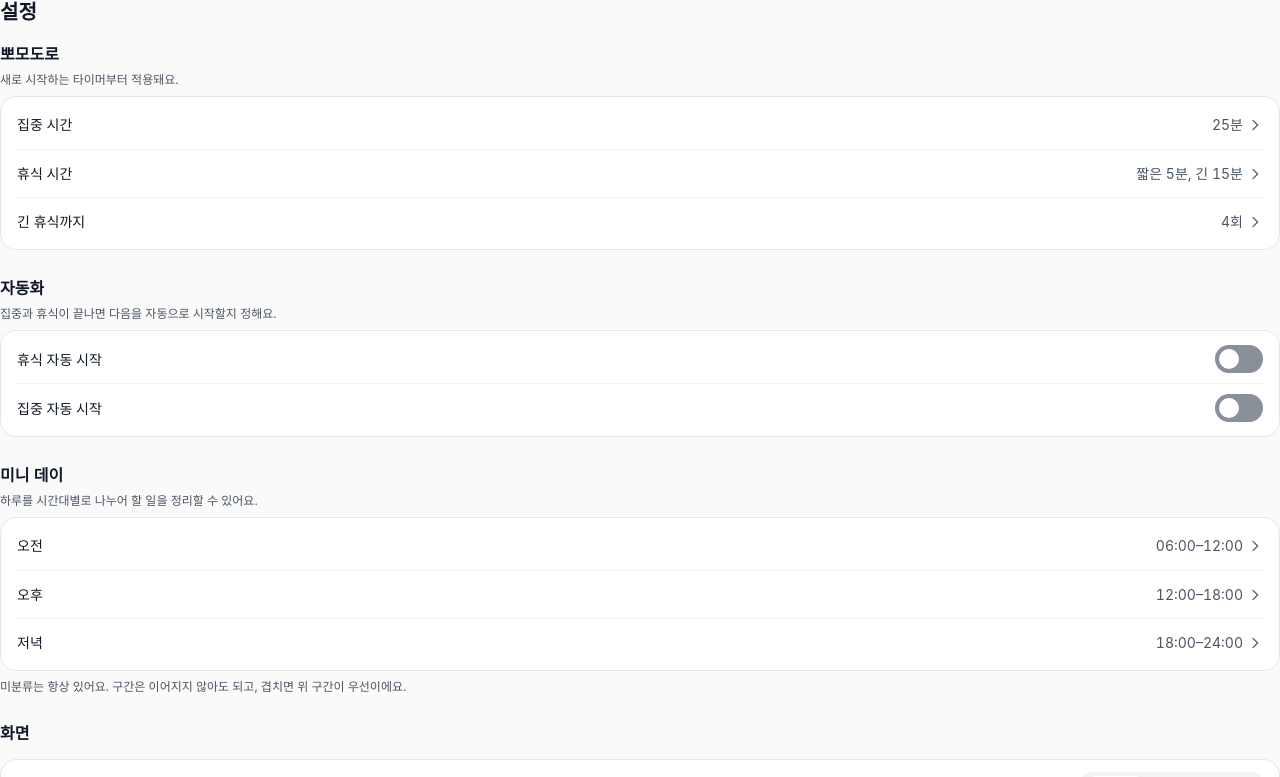
it: PomodoroSettingsPage › saves mini day changes when the sheet is closed
This screenshot has width=1280, height=777.
Click the button "오전 06:00–12:00": (1199,546) [17,522,1263,570]
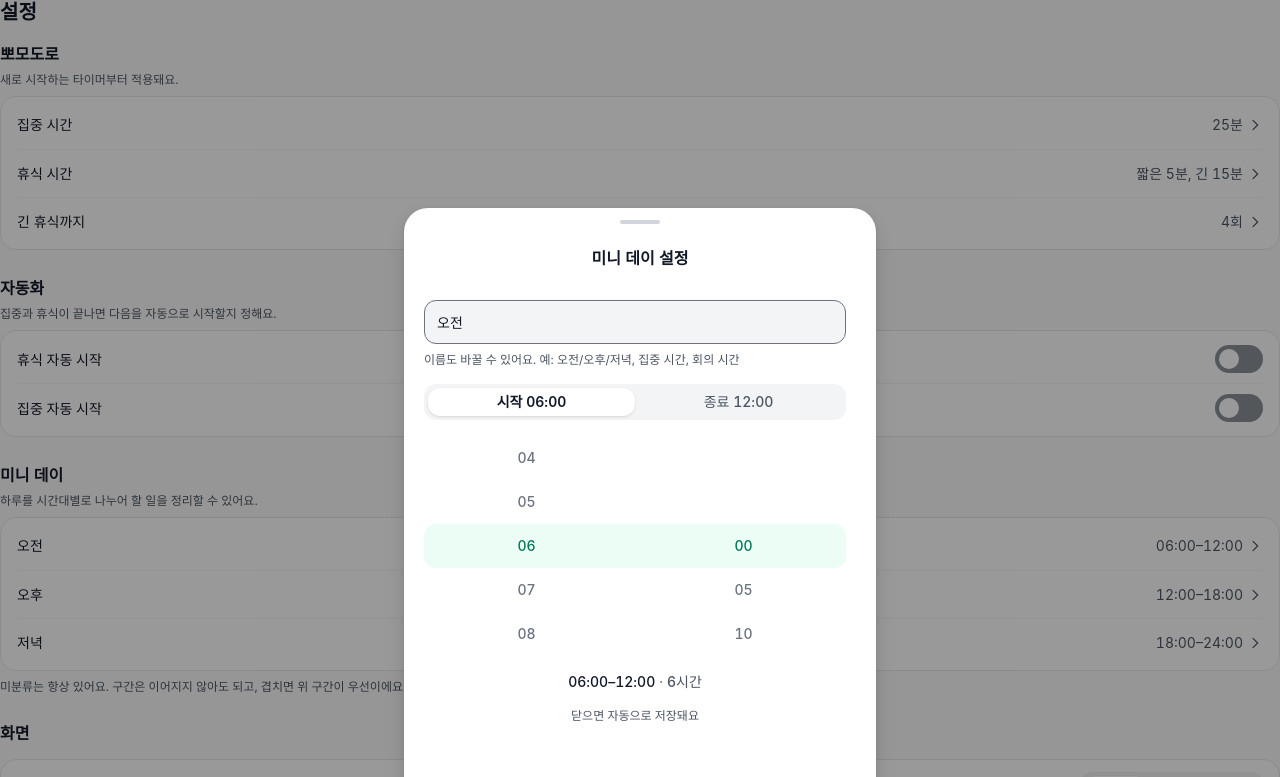
Clear the field with placeholder "미니 데이 1": (635,322) [424,300,846,344]
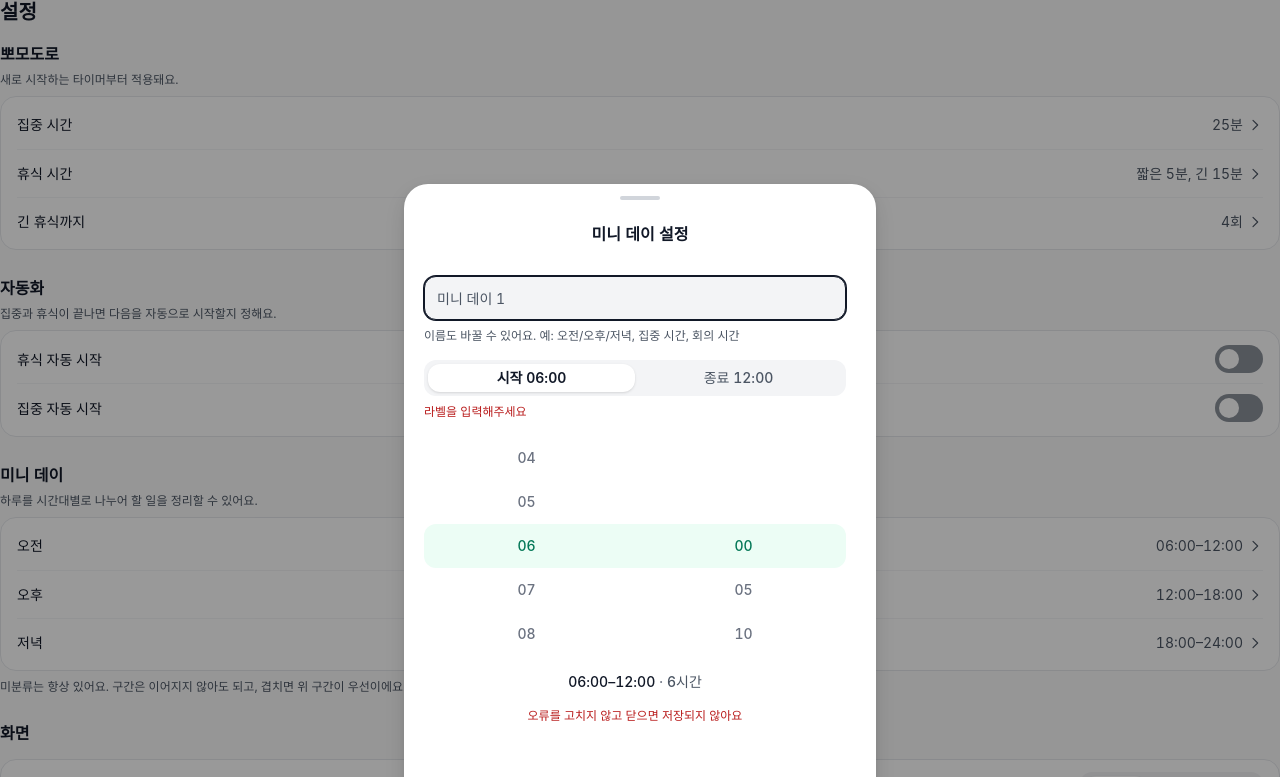
In the field with placeholder "미니 데이 1": (635,298) [424,276,846,320], type "아침"
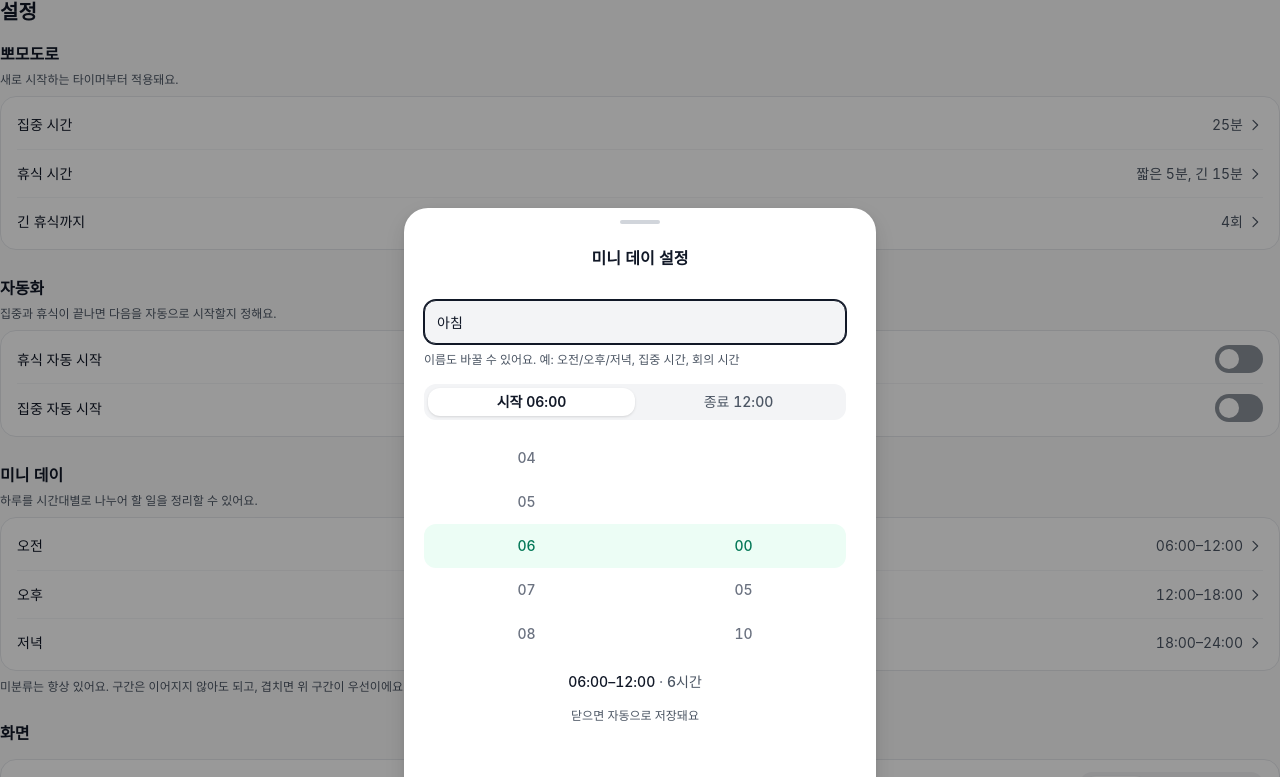
Press Escape
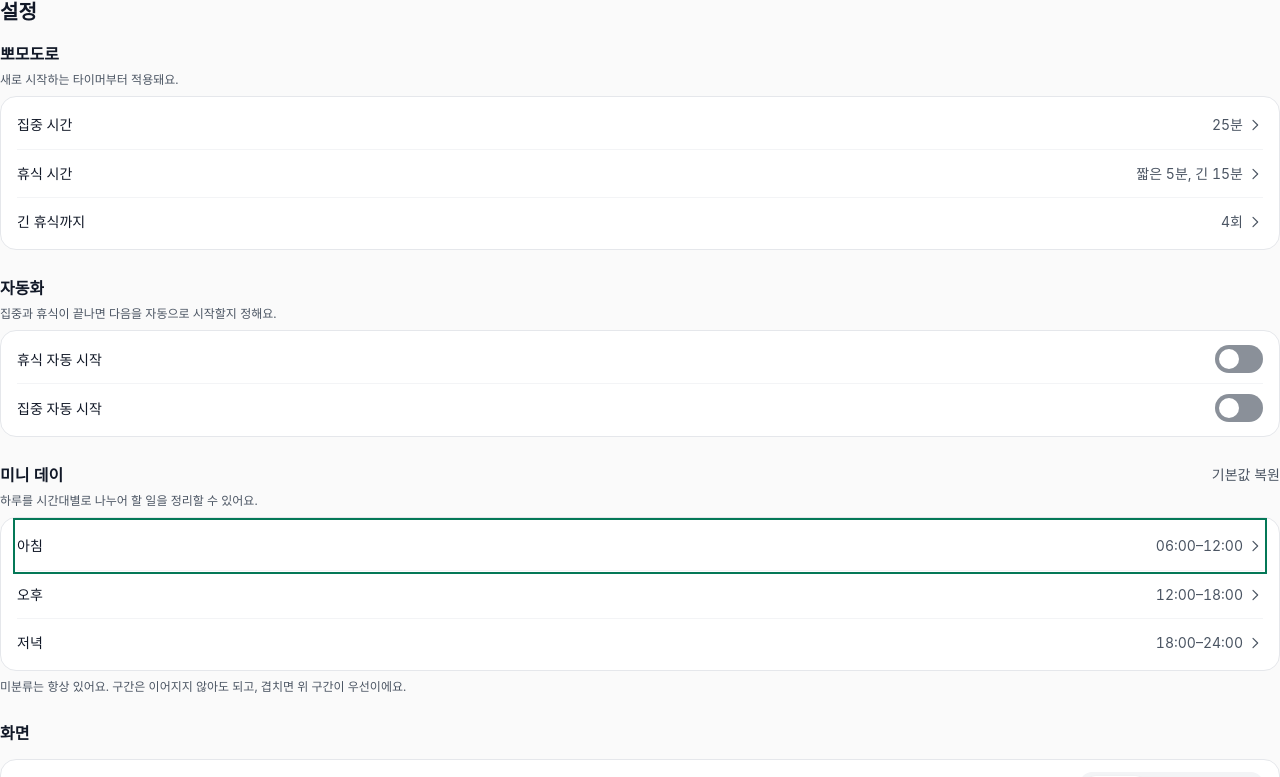
Now the heading "미니 데이 설정" is gone
Now the button "아침 06:00–12:00" is shown, box [17,522,1263,570]
